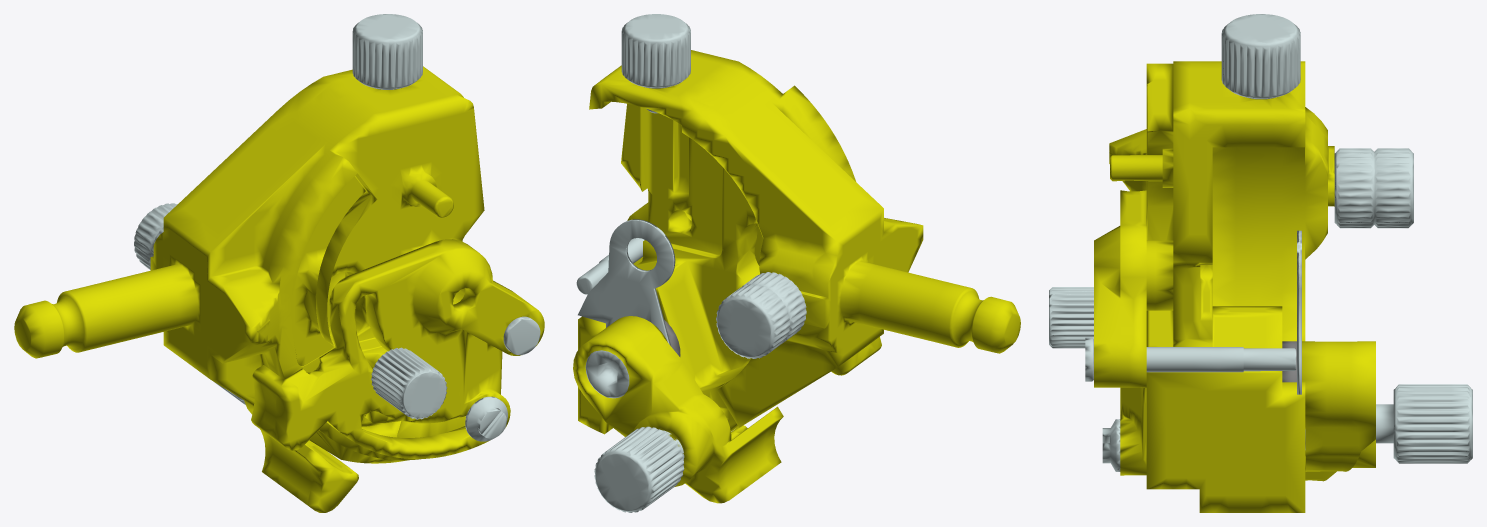
The model's file is condylar_parts_right.obj.
3 views of the same model, side by side, from view 1: azimuth 30°, elevation 25°; view 2: azimuth 150°, elevation 25°; view 3: azimuth 270°, elevation 25° (orthographic). The views are drawn at different scales.
Bounding box in the file's own units: 65.79 × 62.58 × 48.15.
